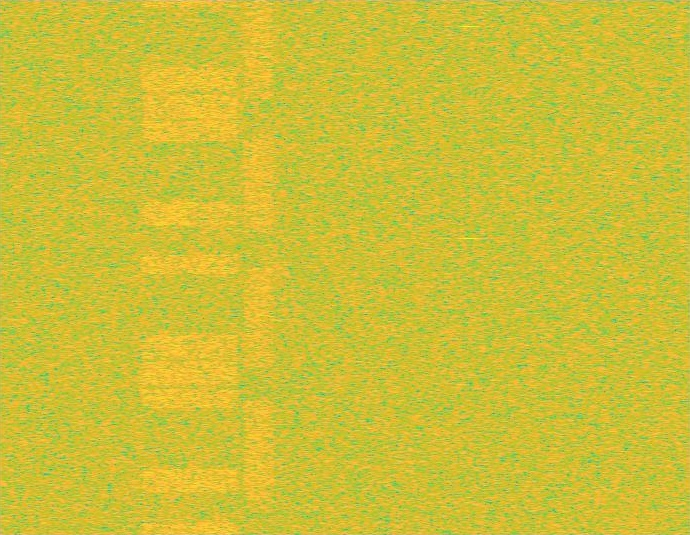5G: (241, 0, 276, 534)
LTE: (138, 0, 241, 534)
Radar: (462, 0, 476, 534)
